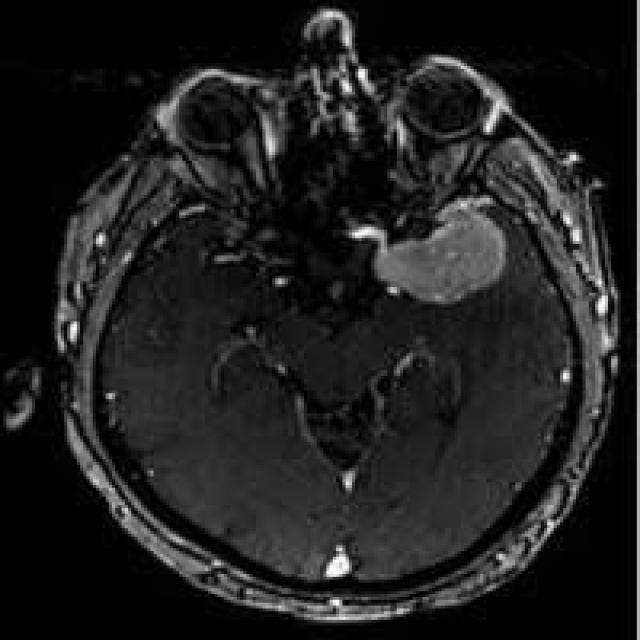brain_tumor: (374, 206, 506, 304)
